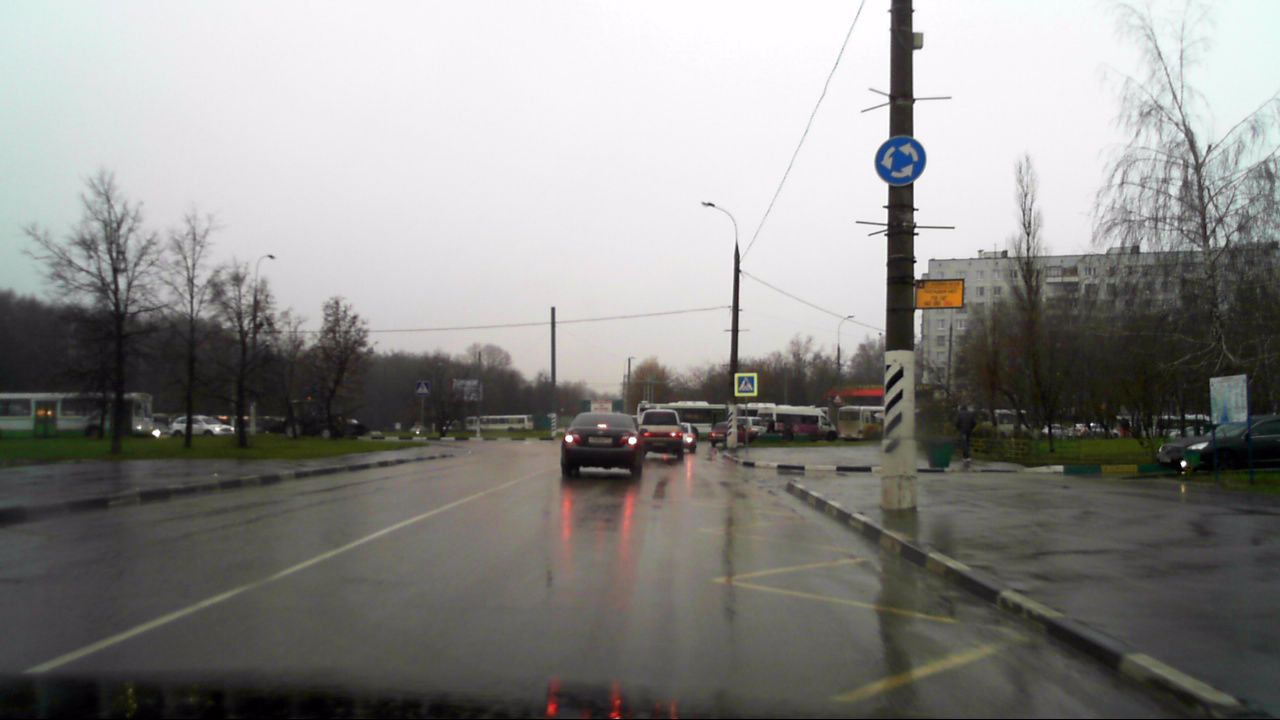Round-About: (875, 136, 927, 185)
